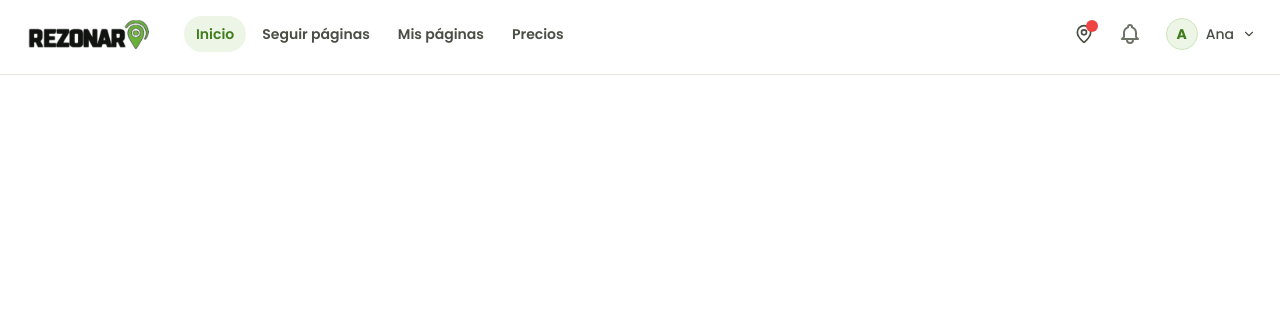
Scenario: Navigation › menú de perfil › al abrirse muestra el email y el nombre editable
The image size is (1280, 310).
What coordinates should you click on to do the following:
click the text "Ana"
I would click on:
 (1220, 34)
Its box is x1=1206 y1=24 x2=1234 y2=44.
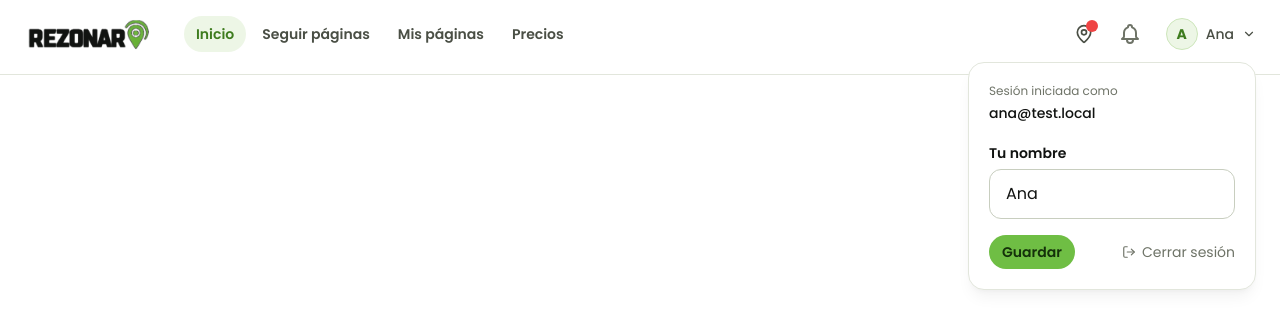
expect the field with placeholder "Cómo querés que te vean" holds "Ana": met, box x1=989 y1=169 x2=1235 y2=219
expect the text "ana@test.local" is shown: met, box x1=989 y1=103 x2=1096 y2=123
